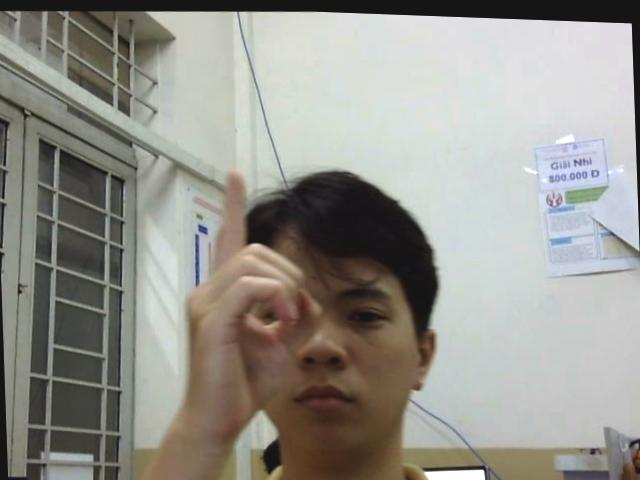D: (178, 166, 324, 428)
